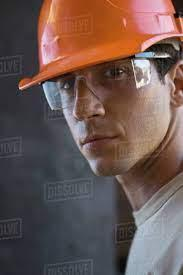Helmet: (13, 3, 183, 89)
